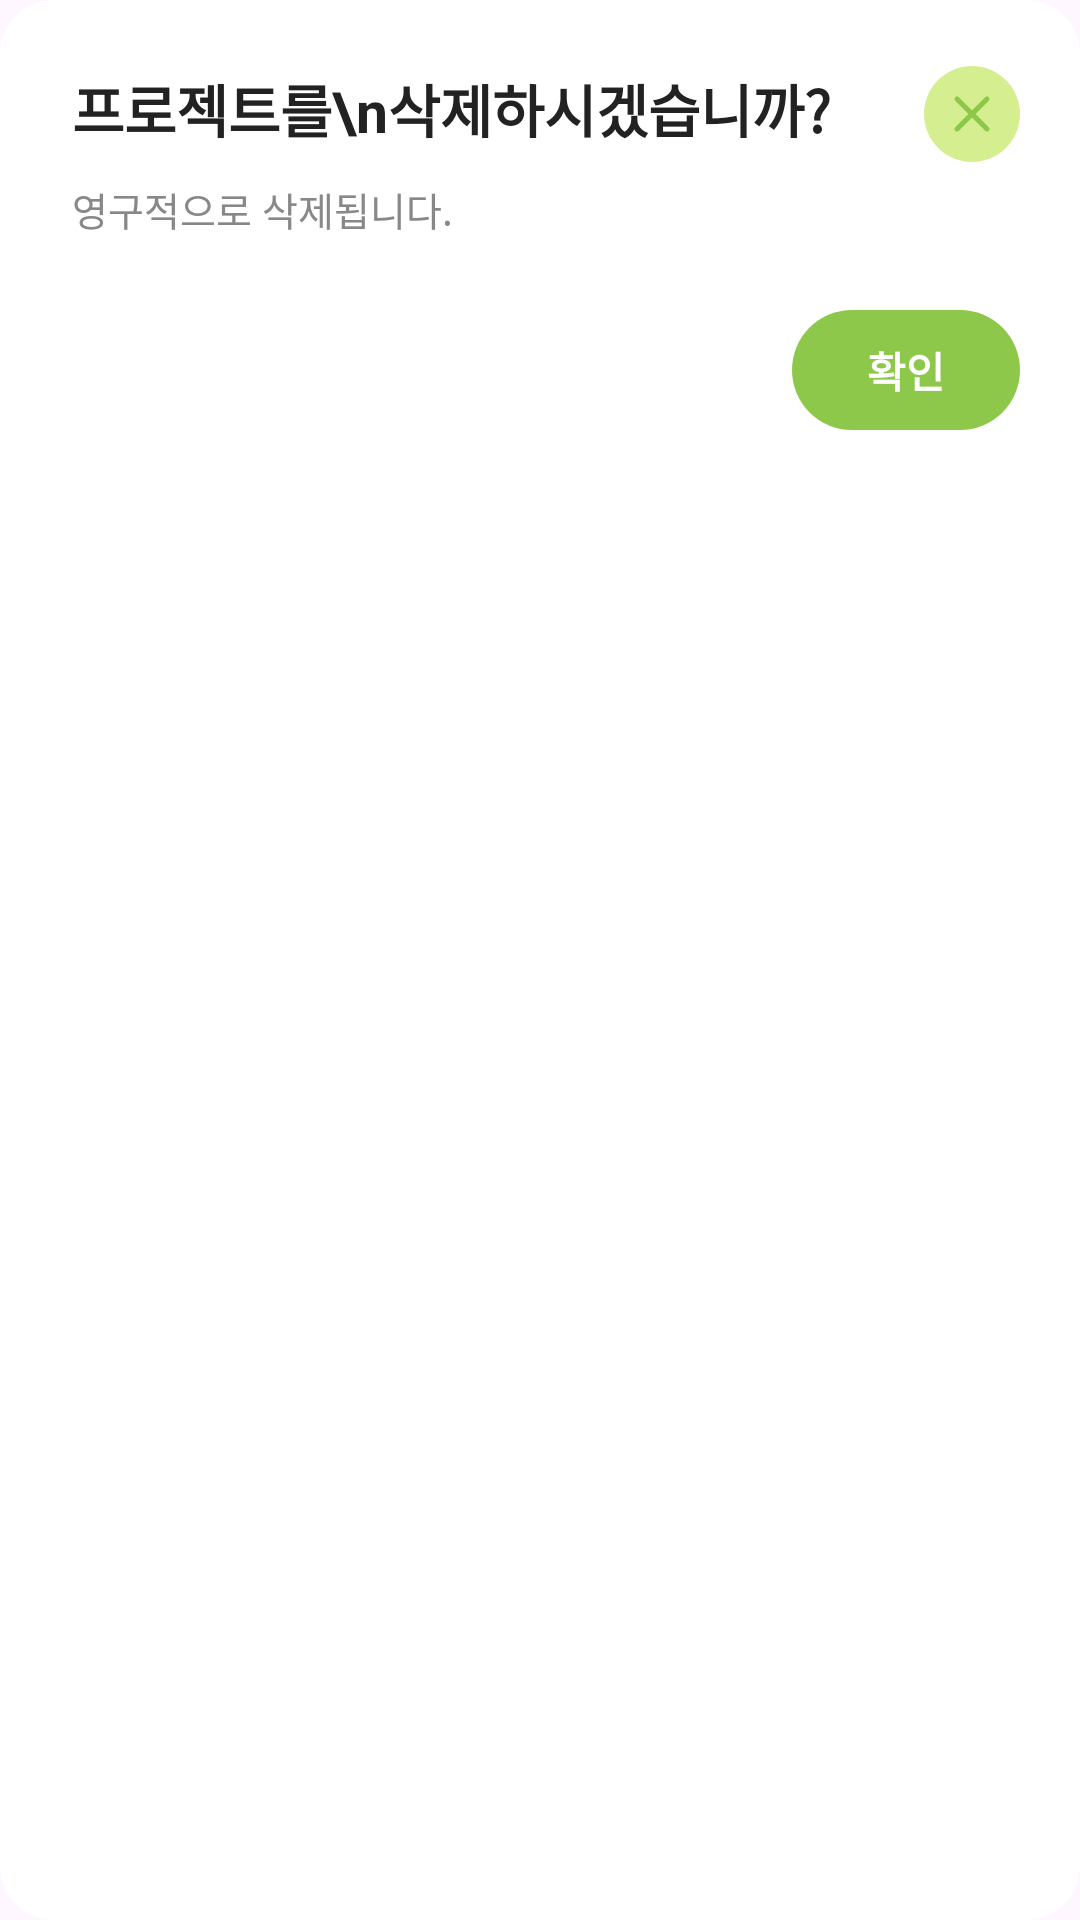

Point at icon controls on the screen. Image size 1080*1920, points as (x=x, y=y).
닫기: (x=972, y=114)
